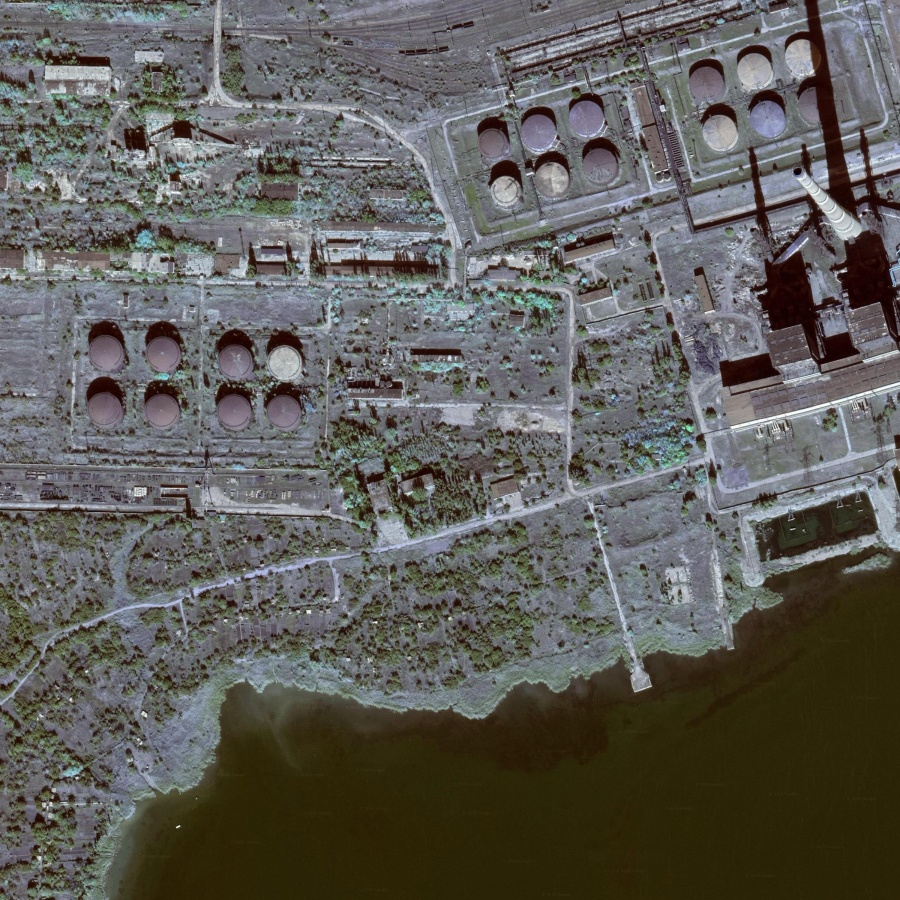PowerPlant: (53, 281, 323, 459), (440, 70, 647, 246)
